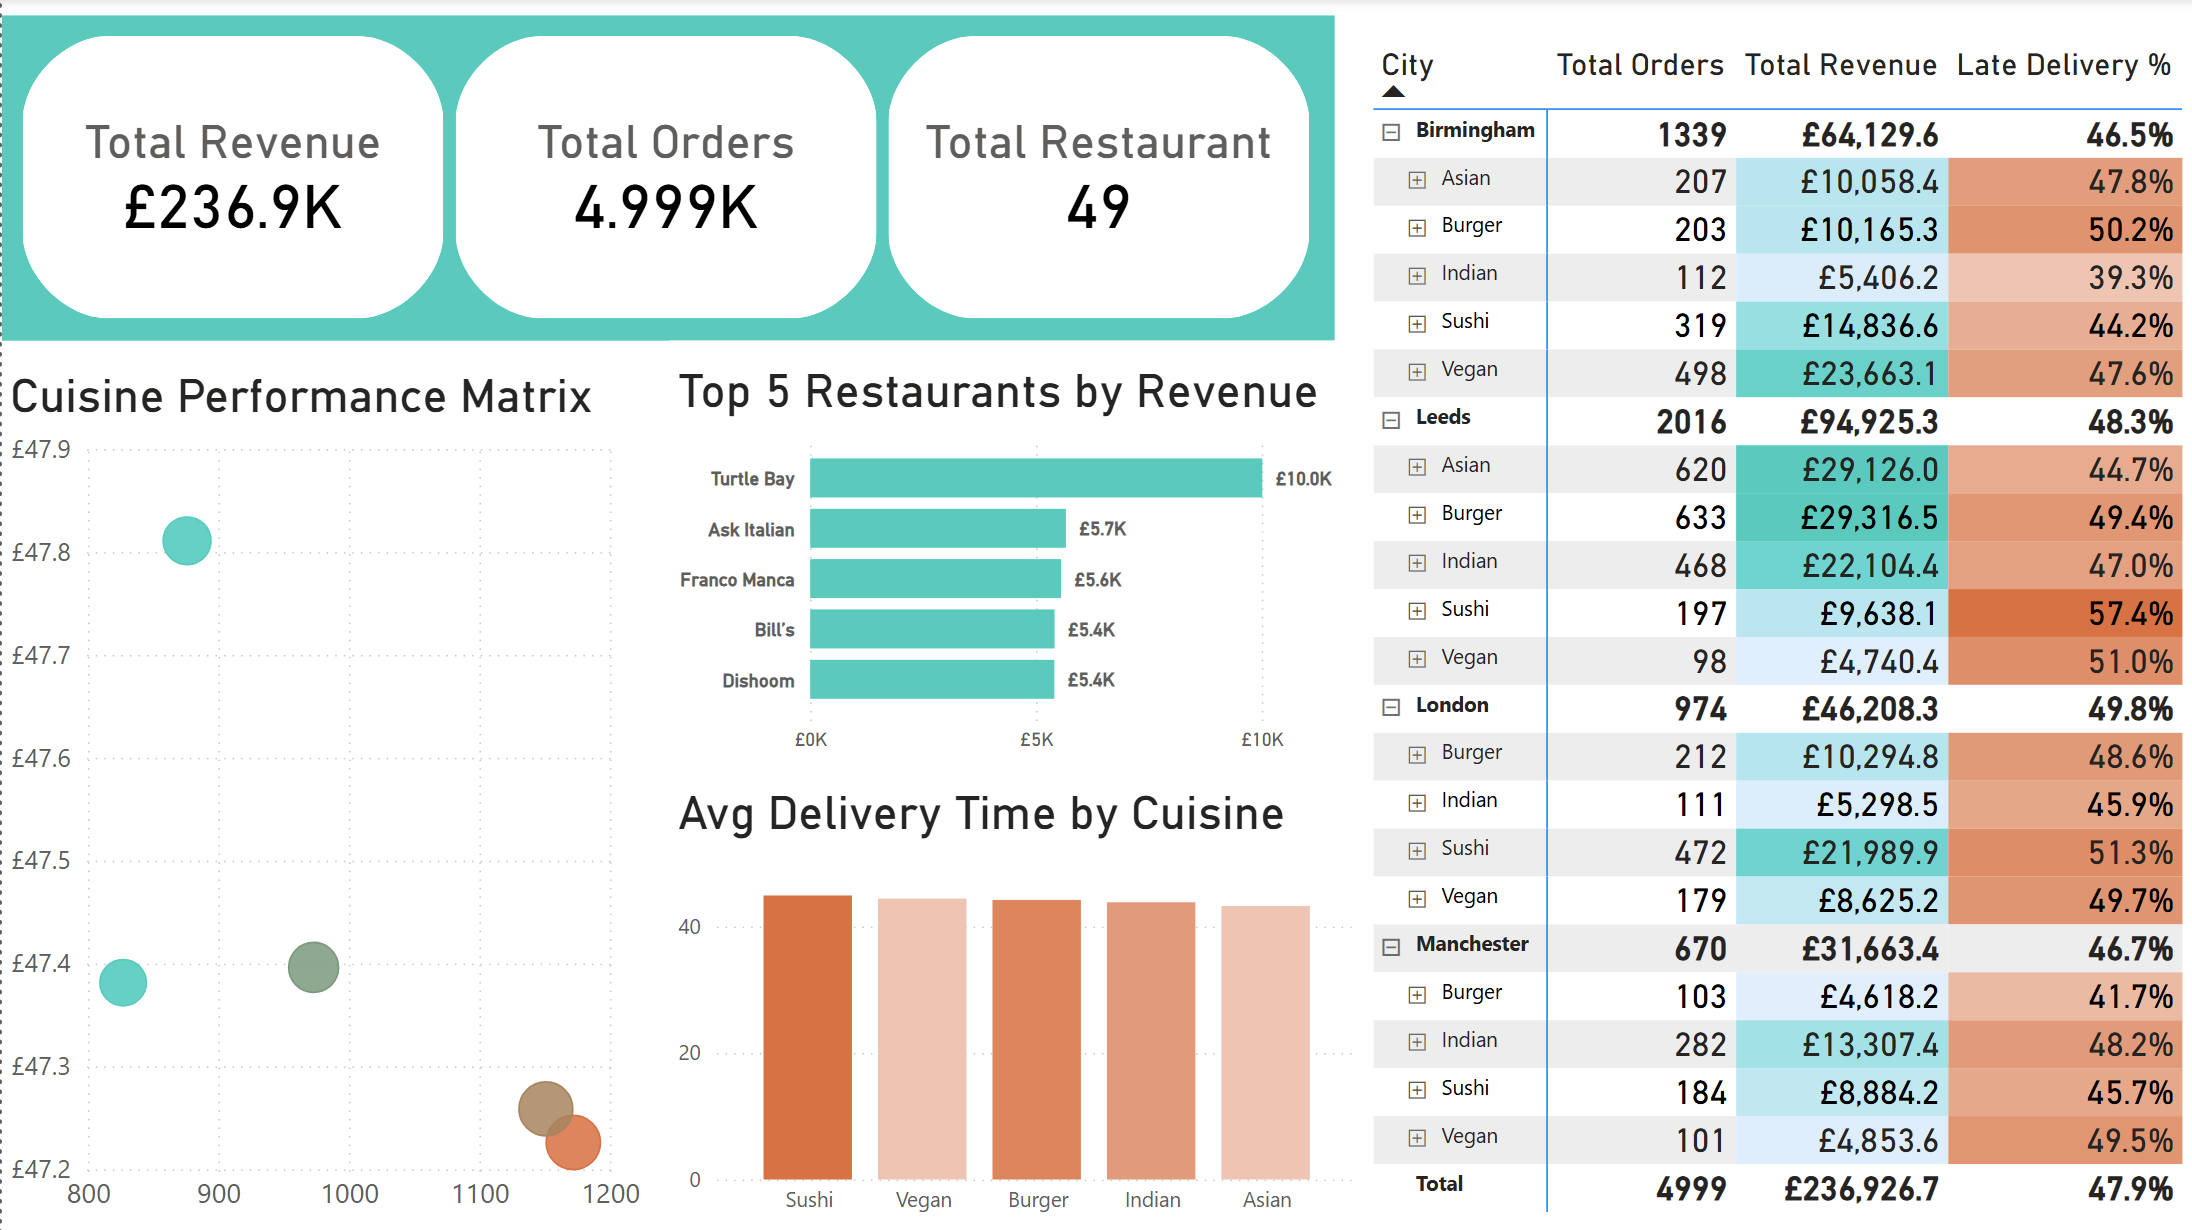

This screenshot's page, from the dashboard's own definition file:
{"tool":"powerbi","page":{"name":"Partner & Restaurant Performance","canvas":[1280,720],"ordinal":3},"visuals":[{"type":"cardVisual","fields":{"Data":["ORDERS.Total Revenue","CountNonNull(ORDERS.Order_ID)","Count(Restaurent.restaurant_ID)"]},"box":[0,10.2,778.7,189.9],"z":0},{"type":"clusteredBarChart","title":"Top 5 Restaurants by Revenue","fields":{"Category":["Restaurent.Restaurent name"],"Y":["ORDERS.Total Revenue"]},"box":[390.1,200.2,406.2,246.9],"z":1000},{"type":"scatterChart","title":"Cuisine Performance Matrix ","fields":{"Category":["Restaurent. Cuisine "],"X":["ORDERS.Total Orders"],"Y":["ORDERS.AOV"],"Size":["ORDERS.Total Revenue"]},"box":[0,215.5,378,504],"z":2000},{"type":"columnChart","title":"Avg Delivery Time by Cuisine","fields":{"Category":["Restaurent. Cuisine "],"Y":["Avg(ORDERS.delivery_time_min)"]},"box":[390.1,460.2,407.6,260.1],"z":3000},{"type":"pivotTable","fields":{"Rows":["Restaurent.city","Restaurent. Cuisine ","Restaurent.Restaurent name"],"Values":["ORDERS.Total Orders","ORDERS.Total Revenue","ORDERS.Late Delivery %"]},"box":[797,10.2,483.6,710.1],"z":4000}]}

Visuals, with their boxes in screenshot pixels (x1, y1, x2, y2), scaled from the page's 1280x720 canvas onto the 2192x1230 screenshot:
cardVisual - ORDERS.Total Revenue x CountNonNull(ORDERS.Order_ID): <bbox>0, 17, 1334, 342</bbox>
"Top 5 Restaurants by Revenue" clusteredBarChart: <bbox>668, 342, 1364, 764</bbox>
"Cuisine Performance Matrix " scatterChart: <bbox>0, 368, 647, 1229</bbox>
"Avg Delivery Time by Cuisine" columnChart: <bbox>668, 786, 1366, 1229</bbox>
pivotTable - Restaurent.city x Restaurent. Cuisine : <bbox>1365, 17, 2191, 1229</bbox>
